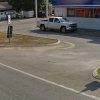Car: (34, 11, 80, 40)
